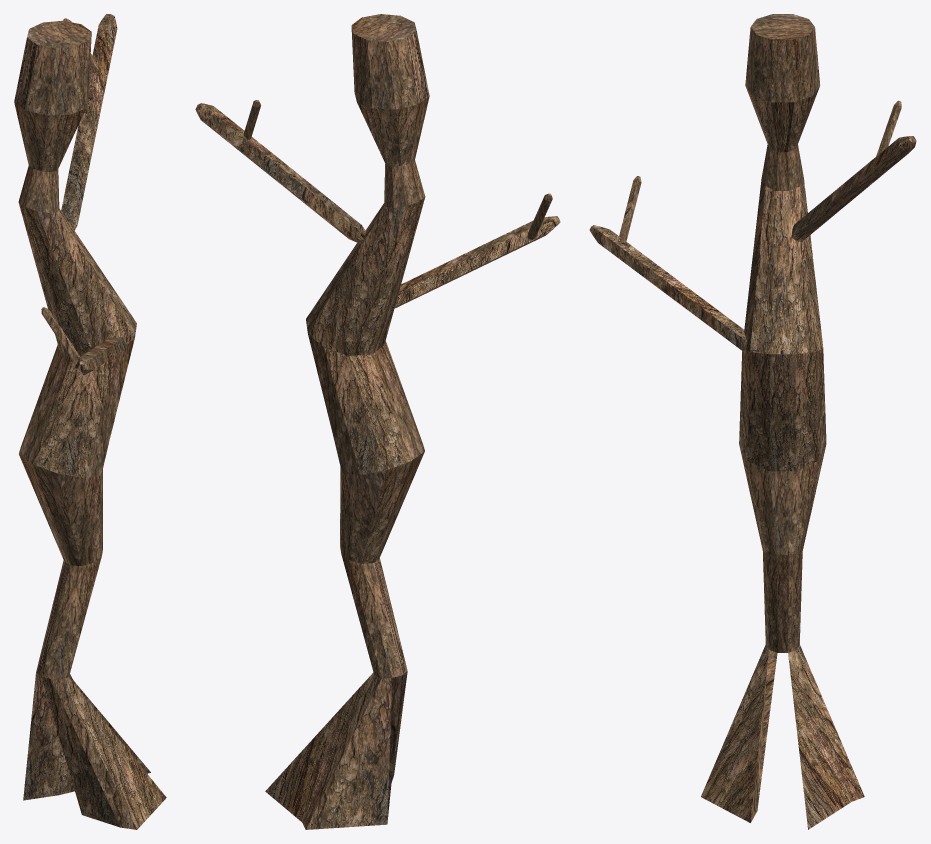
File: humanoidtree_3.glb
The picture shows the model from 3 angles, left to right: view 1: azimuth 30°, elevation 25°; view 2: azimuth 150°, elevation 25°; view 3: azimuth 270°, elevation 25°; orthographic projection. The views are drawn at different scales.
Visible parts, largest first — view 1: tree3; view 2: tree3; view 3: tree3.
Part boxes in pixels (<box>): tree3: <box>14,14,166,829</box>; tree3: <box>195,14,560,829</box>; tree3: <box>589,14,916,829</box>.
Size of what is drawn, in the model's own units: 0.9156 by 3.2 by 1.26.
Materials: 1 (1 with a texture image).
